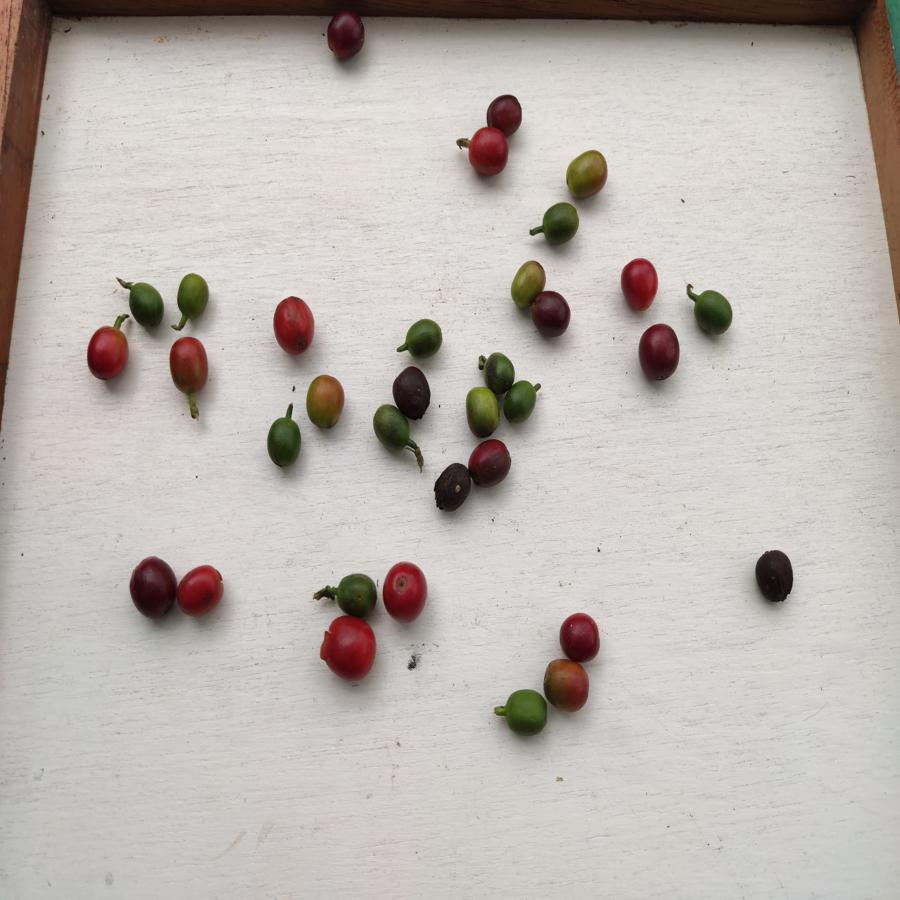Inmaduro: (687, 287, 733, 338), (504, 689, 548, 738), (333, 571, 377, 617), (174, 269, 212, 321), (539, 202, 583, 246), (127, 282, 168, 329), (266, 416, 303, 468), (372, 406, 412, 453), (465, 386, 500, 436), (404, 316, 443, 360), (502, 381, 538, 426), (480, 352, 517, 391)
Maduro: (316, 615, 378, 682), (381, 561, 431, 621), (271, 291, 316, 354), (177, 564, 224, 618), (86, 324, 130, 381), (168, 338, 211, 394), (465, 125, 509, 177), (619, 256, 660, 310), (556, 612, 602, 659)
Pinton: (542, 659, 591, 709), (307, 372, 345, 430), (565, 149, 609, 197), (509, 259, 539, 305)
Sobremaduro: (127, 555, 177, 619), (636, 323, 679, 380), (391, 364, 431, 421), (753, 549, 794, 604), (468, 439, 513, 485), (431, 459, 469, 512), (326, 10, 366, 57), (531, 291, 571, 338), (484, 91, 526, 132)
